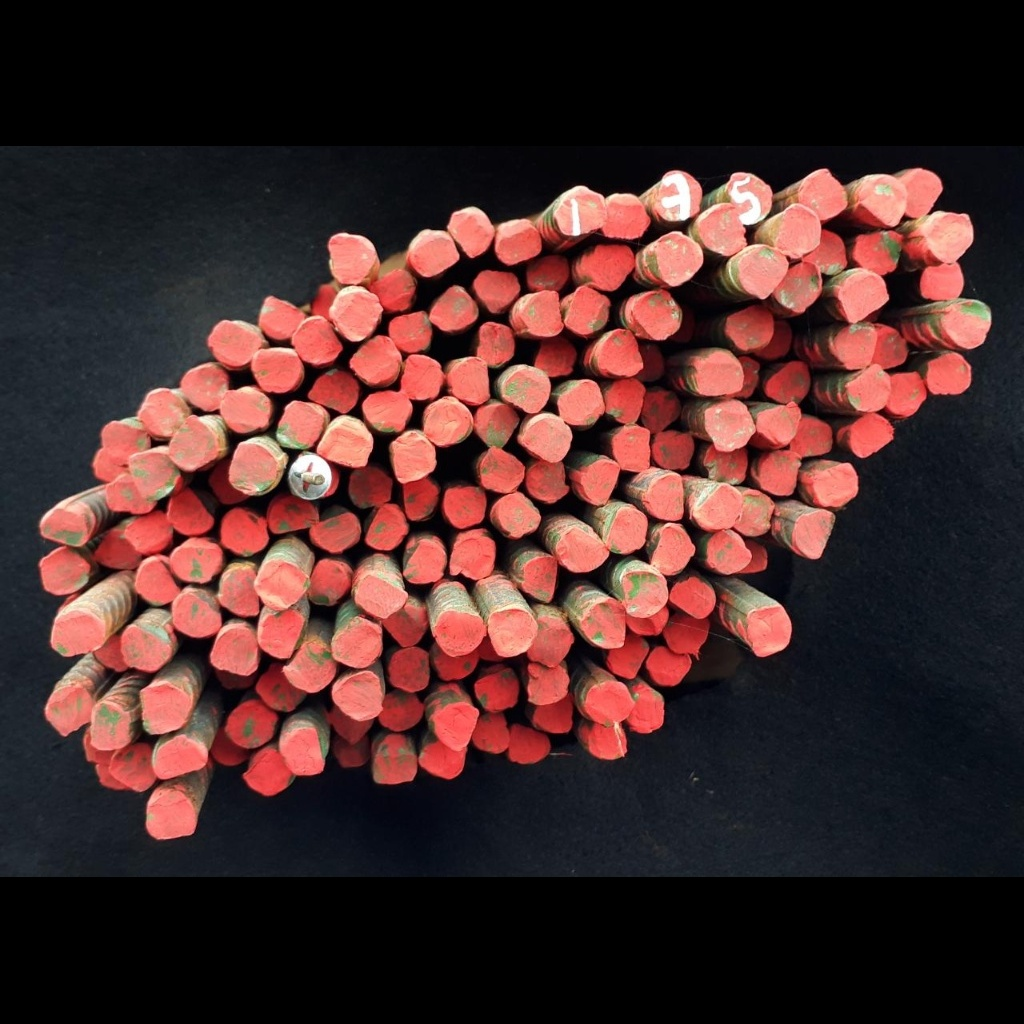dipstick: (82, 728, 135, 793), (169, 414, 219, 471), (738, 244, 788, 300), (229, 444, 283, 495), (129, 451, 183, 502), (655, 231, 704, 287), (703, 401, 756, 452), (554, 186, 608, 236), (255, 560, 310, 609), (632, 289, 683, 341), (137, 387, 189, 438), (139, 683, 191, 734), (330, 292, 383, 342), (50, 610, 106, 657), (38, 546, 91, 595), (328, 231, 376, 285), (777, 202, 822, 259), (332, 671, 383, 721), (145, 789, 195, 840), (45, 685, 97, 734), (774, 260, 822, 313), (281, 644, 334, 692), (725, 170, 772, 224), (250, 347, 304, 394), (429, 702, 479, 752), (210, 626, 260, 676), (698, 203, 746, 255), (110, 739, 158, 791), (527, 617, 574, 670), (219, 387, 273, 433), (354, 574, 409, 619), (924, 213, 974, 262), (562, 286, 611, 336), (332, 619, 382, 668), (859, 176, 907, 227), (121, 624, 172, 672), (218, 509, 270, 556), (556, 527, 609, 573), (254, 664, 308, 709), (841, 274, 889, 324), (293, 318, 343, 366), (448, 209, 495, 260), (99, 421, 151, 467), (155, 734, 207, 780), (941, 300, 990, 348), (595, 329, 643, 378), (488, 609, 537, 657), (800, 169, 847, 219), (258, 609, 305, 659), (900, 168, 945, 220), (747, 605, 792, 657), (433, 611, 485, 656), (392, 431, 437, 483), (307, 368, 359, 413), (225, 704, 278, 748), (502, 368, 551, 415), (277, 399, 324, 448), (650, 525, 695, 576), (103, 473, 157, 515), (479, 445, 526, 493), (123, 509, 173, 554), (319, 426, 373, 467), (180, 365, 229, 410), (845, 363, 889, 413), (725, 307, 775, 351), (580, 598, 624, 648), (410, 235, 460, 279), (362, 391, 413, 434), (853, 231, 905, 273), (219, 564, 260, 617), (696, 483, 742, 530), (473, 401, 519, 448), (619, 572, 667, 617), (429, 286, 477, 331), (279, 727, 324, 775), (166, 491, 214, 536), (601, 196, 650, 240), (603, 505, 647, 554), (585, 682, 635, 725), (522, 419, 572, 462), (399, 355, 445, 401), (764, 359, 811, 404), (706, 530, 753, 575), (423, 401, 470, 446), (135, 559, 180, 606), (587, 245, 635, 289), (557, 382, 605, 426), (88, 701, 131, 750), (310, 511, 360, 553), (812, 462, 857, 508), (449, 534, 495, 579), (259, 295, 305, 340), (306, 559, 349, 607), (641, 473, 684, 520), (289, 451, 332, 498), (206, 459, 249, 506), (246, 751, 293, 794), (802, 229, 847, 273), (756, 402, 801, 446), (384, 601, 428, 646), (663, 611, 709, 654), (520, 290, 562, 337), (795, 511, 835, 560), (927, 353, 972, 396), (604, 380, 647, 425), (473, 271, 518, 314), (580, 459, 621, 506), (419, 740, 467, 780), (612, 424, 651, 473), (497, 495, 541, 538), (758, 451, 800, 496), (475, 669, 520, 711), (365, 505, 407, 550), (669, 577, 715, 618), (39, 507, 87, 546), (850, 414, 893, 457), (606, 637, 649, 680), (527, 459, 569, 503), (451, 357, 489, 405), (444, 485, 486, 528), (371, 269, 414, 311), (732, 490, 772, 535), (506, 724, 552, 763), (378, 692, 425, 730), (269, 497, 317, 534), (403, 541, 445, 583), (389, 310, 431, 352), (349, 467, 392, 508), (327, 707, 372, 746), (95, 529, 140, 568), (646, 647, 692, 685), (477, 320, 515, 366), (921, 261, 963, 302), (532, 693, 575, 733), (497, 227, 541, 266), (837, 325, 875, 370), (389, 647, 428, 690), (887, 371, 924, 416), (870, 326, 907, 371), (696, 360, 742, 396), (171, 547, 218, 582), (527, 666, 569, 705), (526, 252, 568, 291), (789, 418, 832, 456), (628, 689, 665, 733), (403, 477, 439, 522), (522, 556, 557, 602), (651, 430, 692, 469), (473, 711, 509, 754), (588, 721, 627, 760), (640, 392, 680, 430), (433, 647, 479, 680), (372, 751, 418, 784), (535, 339, 576, 376), (755, 318, 790, 359), (211, 730, 249, 767), (333, 736, 374, 768), (635, 342, 665, 384), (93, 635, 128, 669), (91, 448, 124, 482), (627, 607, 667, 634), (215, 667, 259, 691), (736, 356, 761, 398), (738, 540, 768, 574), (314, 282, 339, 321), (480, 632, 507, 661)
